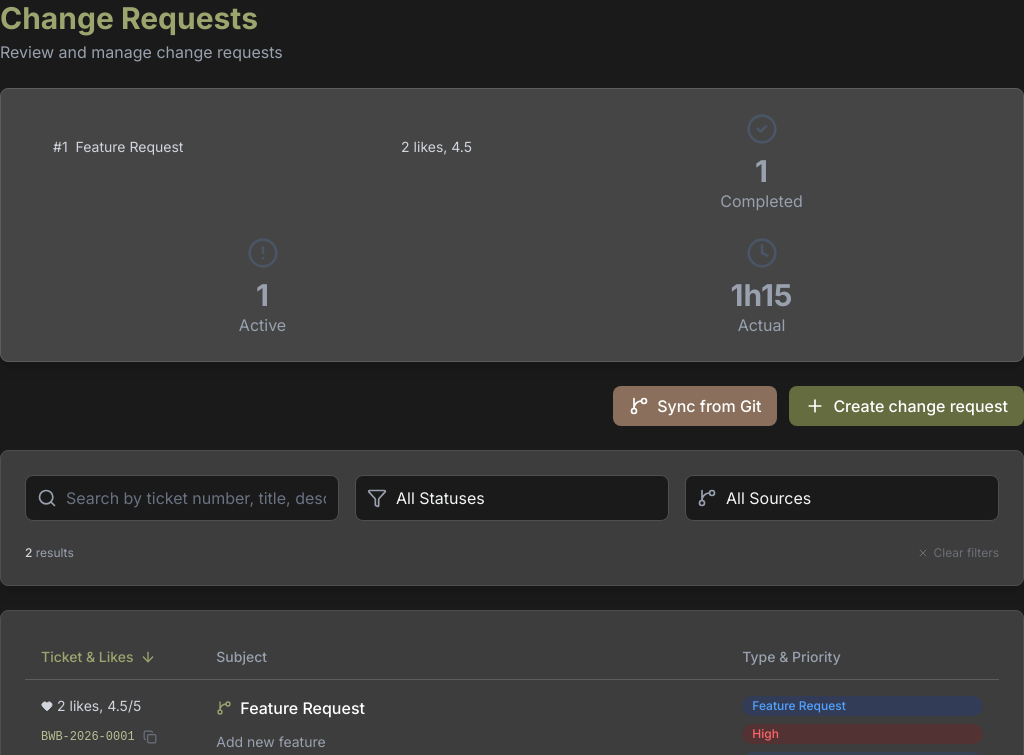
Test: ChangesManagement › shows the filtering indicator while a debounced search request is pending
expect the heading "Change Requests" is shown: met, box [0, 0, 258, 36]
Step 1. Type "Bug" into the field with placeholder "Search by ticket number, title, description, or creator..." → (182, 498), box [25, 475, 339, 521]
Wait 500 ms
(page scrolled)
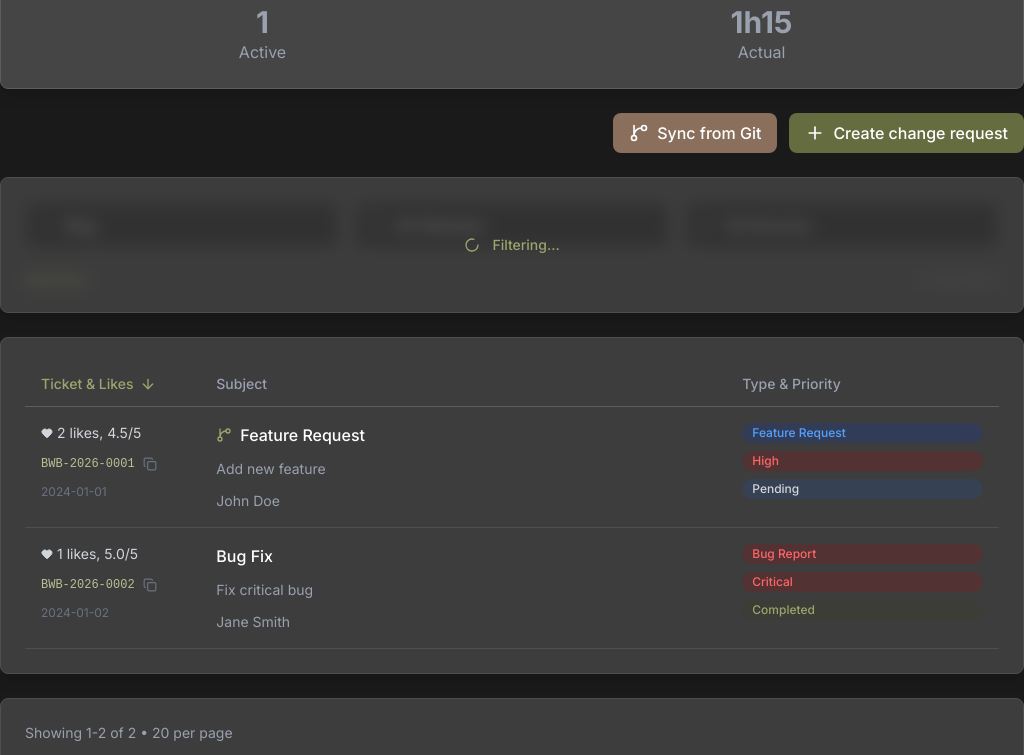
expect the text "Bug Fix" is shown: met, box [216, 544, 273, 568]
expect the text "Filtering..." is shown: met, box [492, 235, 560, 255]
